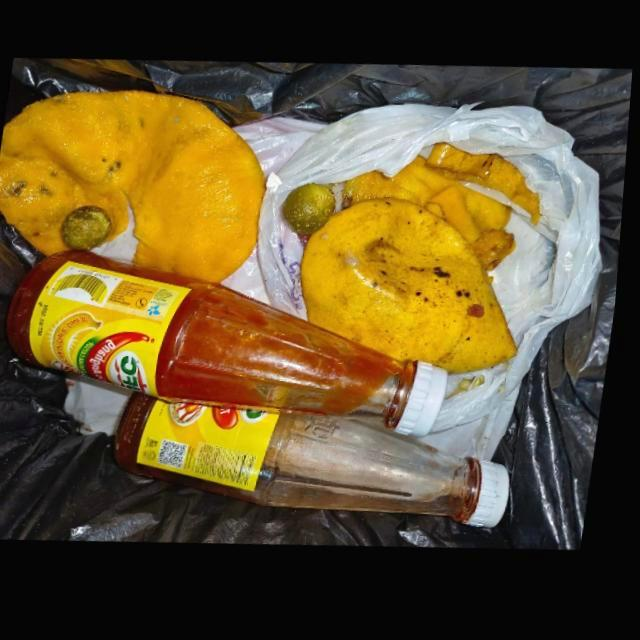glass_bottle: (11, 249, 455, 441), (119, 393, 490, 528)
plastic_bag: (224, 106, 609, 467)
